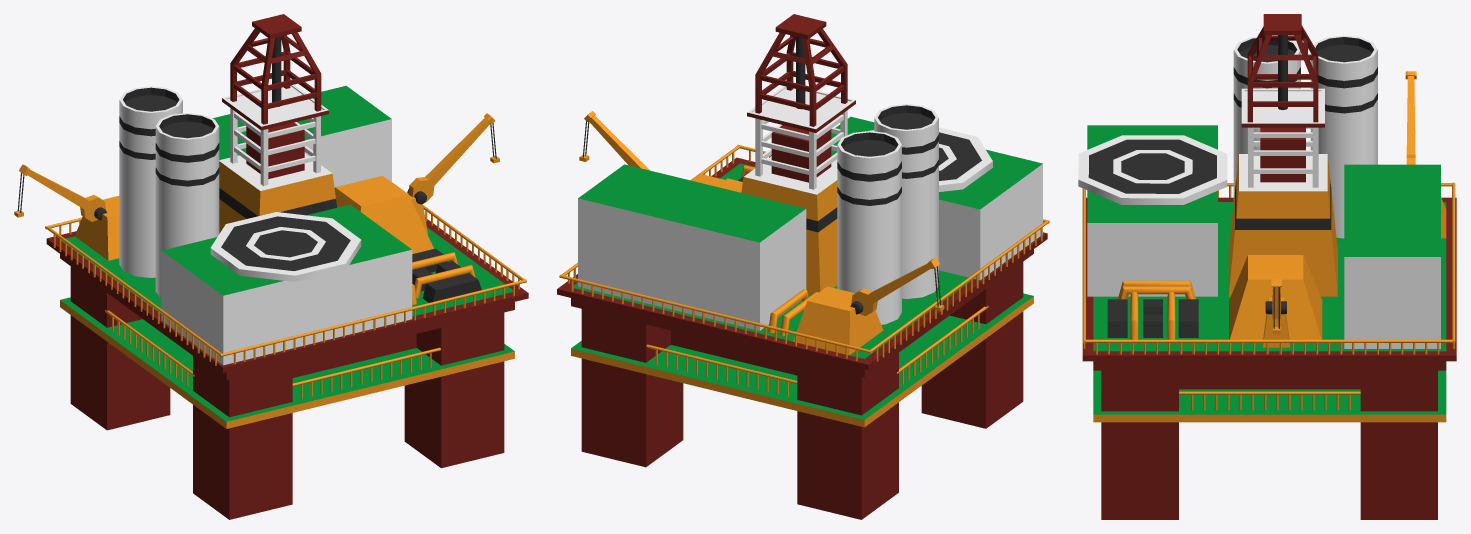
The model's file is oilWell.fbx.
3 views of the same model, side by side, from view 1: azimuth 30°, elevation 25°; view 2: azimuth 150°, elevation 25°; view 3: azimuth 270°, elevation 25° (orthographic). The views are drawn at different scales.
Parts seen in each view (by area): view 1: Object, Object.003, Object.021, Object.001, Object.002, Object.024, Object.006, Object.007, Object.009, Object.008, Object.018, Object.027 (+13 smaller); view 2: Object, Object.007, Object.021, Object.001, Object.002, Object.003, Object.006, Object.011, Object.024, Object.008, Object.019, Object.027 (+10 smaller); view 3: Object, Object.007, Object.001, Object.003, Object.006, Object.021, Object.024, Object.002, Object.009, Object.004, Object.008, Object.022 (+10 smaller).
Part boxes in pixels (x1,y1,x2,y2): Object: (70,266,504,519); Object.003: (161,204,412,365); Object.021: (119,86,219,298); Object.001: (46,219,528,380); Object.002: (60,297,514,428); Object.024: (210,212,361,281); Object.006: (219,122,336,233); Object.007: (212,85,391,187); Object.009: (334,175,433,253); Object.008: (222,84,328,130); Object.018: (219,279,526,364); Object.027: (230,28,321,124); Object: (581,262,1023,519); Object.007: (578,164,806,330); Object.021: (837,104,938,324); Object.001: (557,157,1047,377); Object.002: (571,293,1033,427); Object.003: (831,116,1042,280); Object.006: (741,125,837,295); Object.011: (793,286,883,355); Object.024: (869,127,992,191); Object.008: (747,86,855,132); Object.019: (559,274,872,360); Object.027: (755,29,847,126); Object: (1101,370,1437,519); Object.007: (1344,164,1440,348); Object.001: (1082,197,1456,370); Object.003: (1087,125,1217,296); Object.006: (1228,127,1337,296); Object.021: (1233,35,1377,238); Object.024: (1078,135,1227,204); Object.002: (1093,370,1446,422); Object.009: (1229,255,1322,347); Object.004: (1179,370,1360,389); Object.008: (1241,88,1324,127); Object.022: (1084,339,1453,354).
Size of the model in its own units: 198 by 181 by 146.
